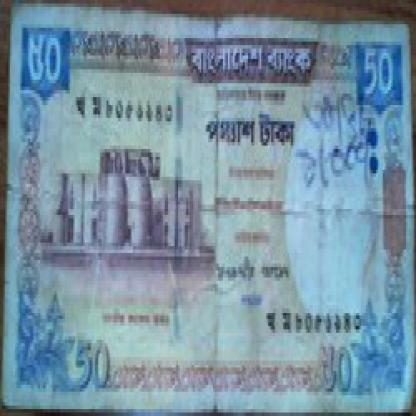Fifty taka: (22, 28, 70, 104), (311, 340, 353, 402)
